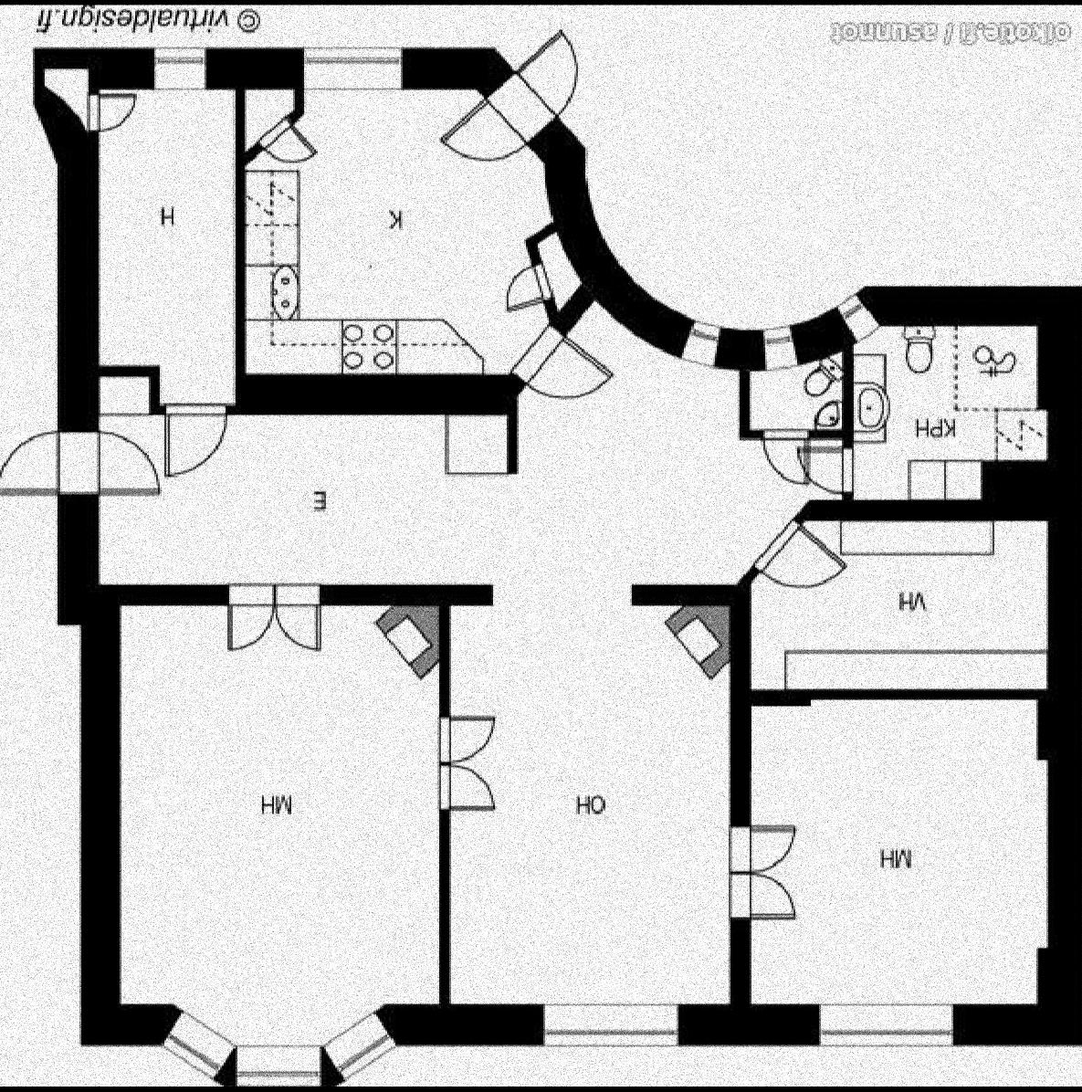door: (432, 32, 580, 186), (0, 429, 160, 495), (224, 575, 324, 657), (723, 820, 801, 920), (515, 336, 620, 404), (153, 392, 227, 486), (436, 706, 498, 813), (253, 96, 309, 175), (750, 420, 806, 489), (798, 448, 852, 500), (84, 86, 136, 135), (499, 257, 546, 309)
window: (533, 1000, 684, 1051), (323, 1002, 398, 1083), (222, 1034, 325, 1087), (814, 1005, 960, 1041), (305, 42, 406, 86), (164, 1007, 232, 1072), (674, 315, 725, 364), (153, 48, 208, 91), (835, 296, 882, 341), (756, 326, 794, 374)
zone: (88, 312, 862, 590), (105, 602, 444, 1031), (451, 595, 735, 1009), (241, 42, 567, 391), (741, 699, 1049, 1014), (744, 504, 1059, 693), (79, 91, 233, 407), (855, 304, 1055, 507)
